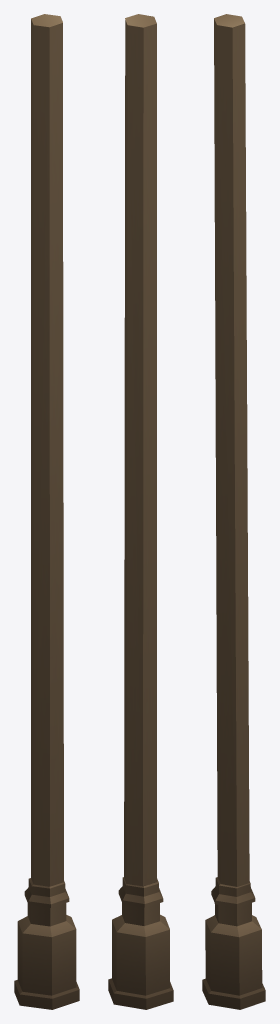
The model's file is ZLP_Build_F_32.FBX.
3 renders of one model, left to right at view 1: azimuth 30°, elevation 25°; view 2: azimuth 210°, elevation 25°; view 3: azimuth 330°, elevation 25°, orthographic.
Parts seen in each view (by area): view 1: ZLP_Build_F_32; view 2: ZLP_Build_F_32; view 3: ZLP_Build_F_32.
Part boxes in pixels (bbox=[...]): ZLP_Build_F_32: bbox=[14, 14, 79, 1009]; ZLP_Build_F_32: bbox=[108, 14, 173, 1009]; ZLP_Build_F_32: bbox=[202, 14, 265, 1009].
Bounding box in the file's own units: 54.35 × 861 × 49.31.
